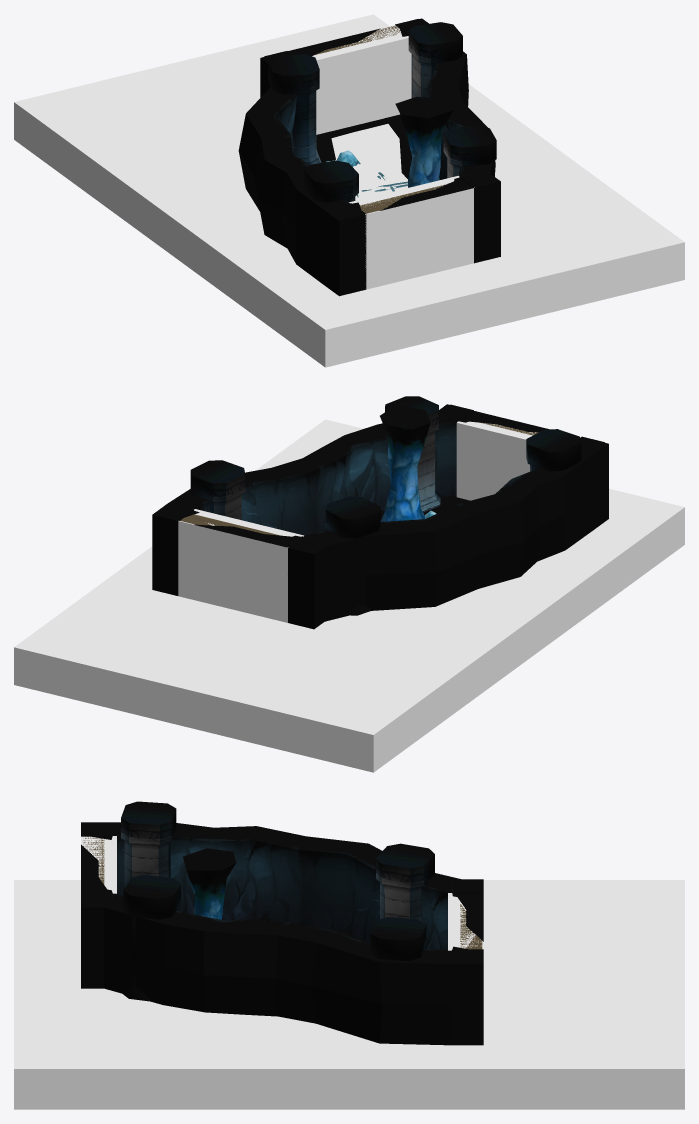
File: Dungeon_033_Road_003.fbx
3 renders of one model, top to bottom at view 1: azimuth 30°, elevation 25°; view 2: azimuth 150°, elevation 25°; view 3: azimuth 270°, elevation 25°, orthographic. The views are drawn at different scales.
Visible parts, largest first — view 1: Cube, Dan1, DoorWay_NavMask (1) (×2), Dungeon_033_Pillar_001 (3), Dungeon_011_Object_010, Dungeon_033_Pillar_001, Dun_011_Door_002_old (×2), Dungeon_033_Pillar_001 (1), Dungeon_033_Pillar_001 (2), Dan1_shadow; view 2: Cube, Dan1, DoorWay_NavMask (1) (×2), Dungeon_011_Object_010, Dun_011_Door_002_old (×2), Dungeon_033_Pillar_001, Dungeon_033_Pillar_001 (3), Dungeon_033_Pillar_001 (1), Dungeon_033_Pillar_001 (2); view 3: Cube, Dan1, Dungeon_033_Pillar_001 (2), Dungeon_033_Pillar_001 (3), Dun_011_Door_002_old (×2), Dungeon_033_Pillar_001 (1), Dungeon_011_Object_010, Dungeon_033_Pillar_001, DoorWay_NavMask (1) (×2), Dun_011_Door_003_WarpRoom.
Boxes of the visible parts, x1,y1,x2,y2 form: Cube: (14, 14, 684, 367); Dan1: (238, 18, 500, 296); DoorWay_NavMask (1) (×2): (312, 25, 474, 289); Dungeon_033_Pillar_001 (3): (268, 54, 321, 164); Dungeon_011_Object_010: (395, 97, 453, 187); Dungeon_033_Pillar_001: (408, 22, 462, 97); Dun_011_Door_002_old (×2): (264, 19, 496, 219); Dungeon_033_Pillar_001 (1): (443, 125, 496, 178); Dungeon_033_Pillar_001 (2): (304, 160, 358, 276); Dan1_shadow: (316, 114, 412, 179); Cube: (14, 419, 684, 772); Dan1: (152, 404, 608, 629); DoorWay_NavMask (1) (×2): (178, 421, 580, 622); Dungeon_011_Object_010: (380, 404, 430, 521); Dun_011_Door_002_old (×2): (156, 404, 604, 552); Dungeon_033_Pillar_001: (190, 460, 245, 519); Dungeon_033_Pillar_001 (3): (325, 496, 380, 615); Dungeon_033_Pillar_001 (1): (385, 396, 440, 512); Dungeon_033_Pillar_001 (2): (526, 429, 582, 537); Cube: (14, 880, 684, 1109); Dan1: (81, 822, 483, 1045); Dungeon_033_Pillar_001 (2): (121, 801, 176, 887); Dungeon_033_Pillar_001 (3): (376, 843, 434, 921); Dun_011_Door_002_old (×2): (81, 823, 483, 961); Dungeon_033_Pillar_001 (1): (122, 874, 180, 1001); Dungeon_011_Object_010: (183, 848, 236, 919); Dungeon_033_Pillar_001: (370, 917, 426, 961); DoorWay_NavMask (1) (×2): (81, 836, 483, 950); Dun_011_Door_003_WarpRoom: (460, 904, 482, 949).
Size of what is drawn, in the model's own units: 10 by 3.94 by 15.
